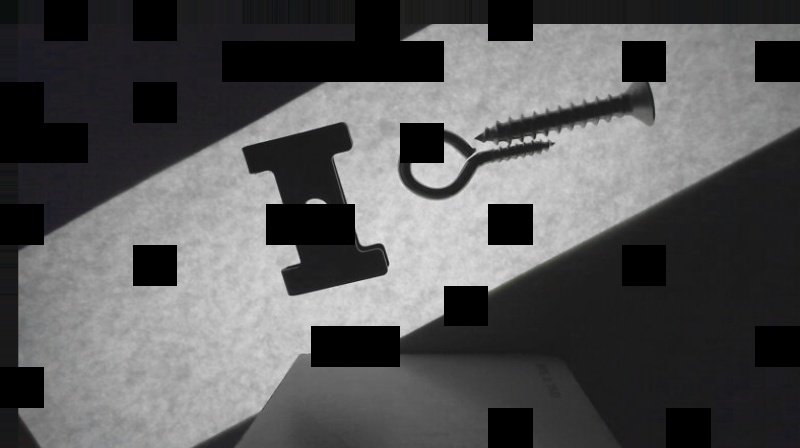O001: (394, 127, 556, 199)
O002: (239, 120, 389, 299)
S001: (473, 73, 658, 143)
